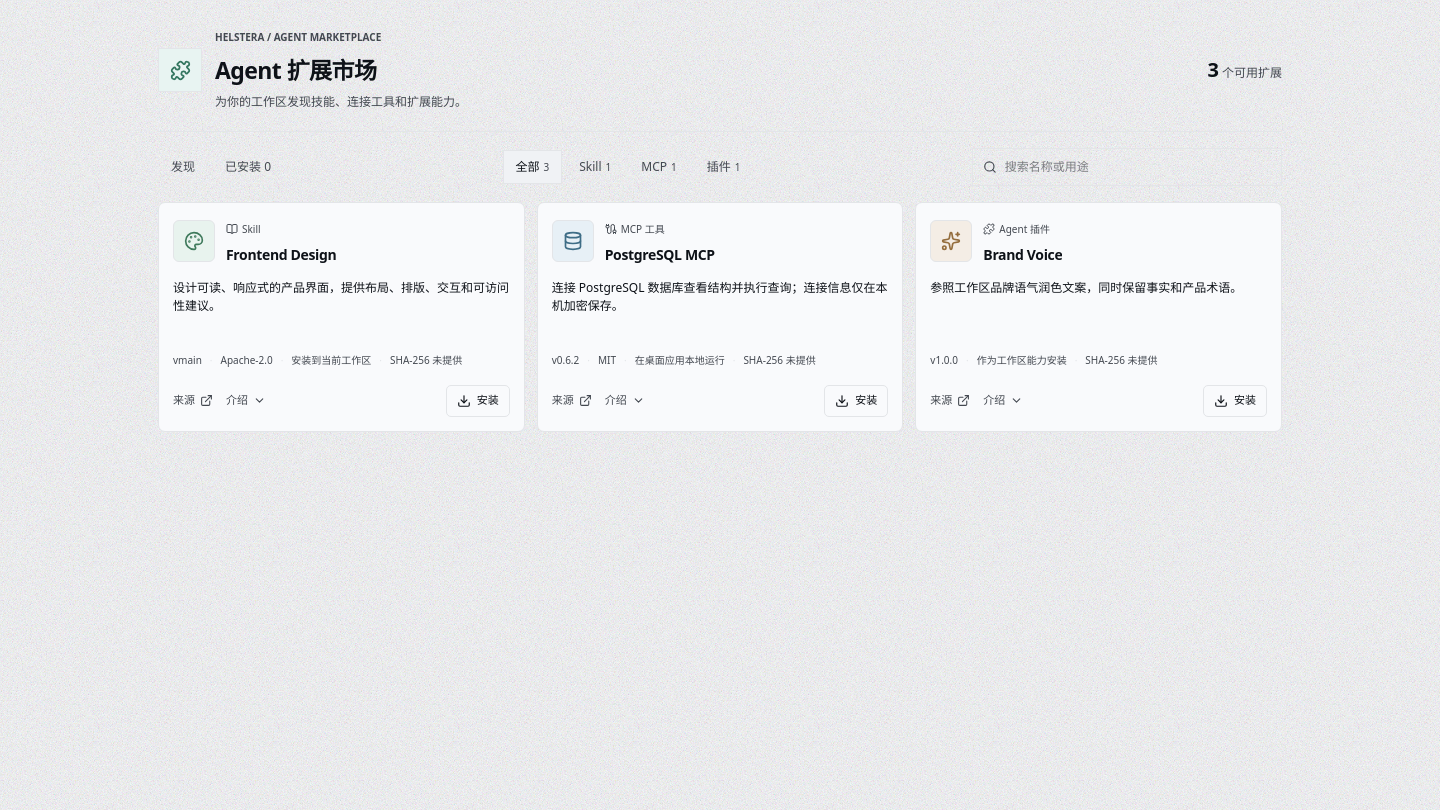
Agent marketplace installs › shows a semantic icon and expandable introduction for each listing
Expected: the text "Agent 插件" is shown, [983,222,1050,234]
Expected: the text "作为工作区能力安装" is shown, [966,353,1067,368]
Step 1. Click the button "介绍" below "1.0.0" → (1003, 400), box [983,386,1023,416]
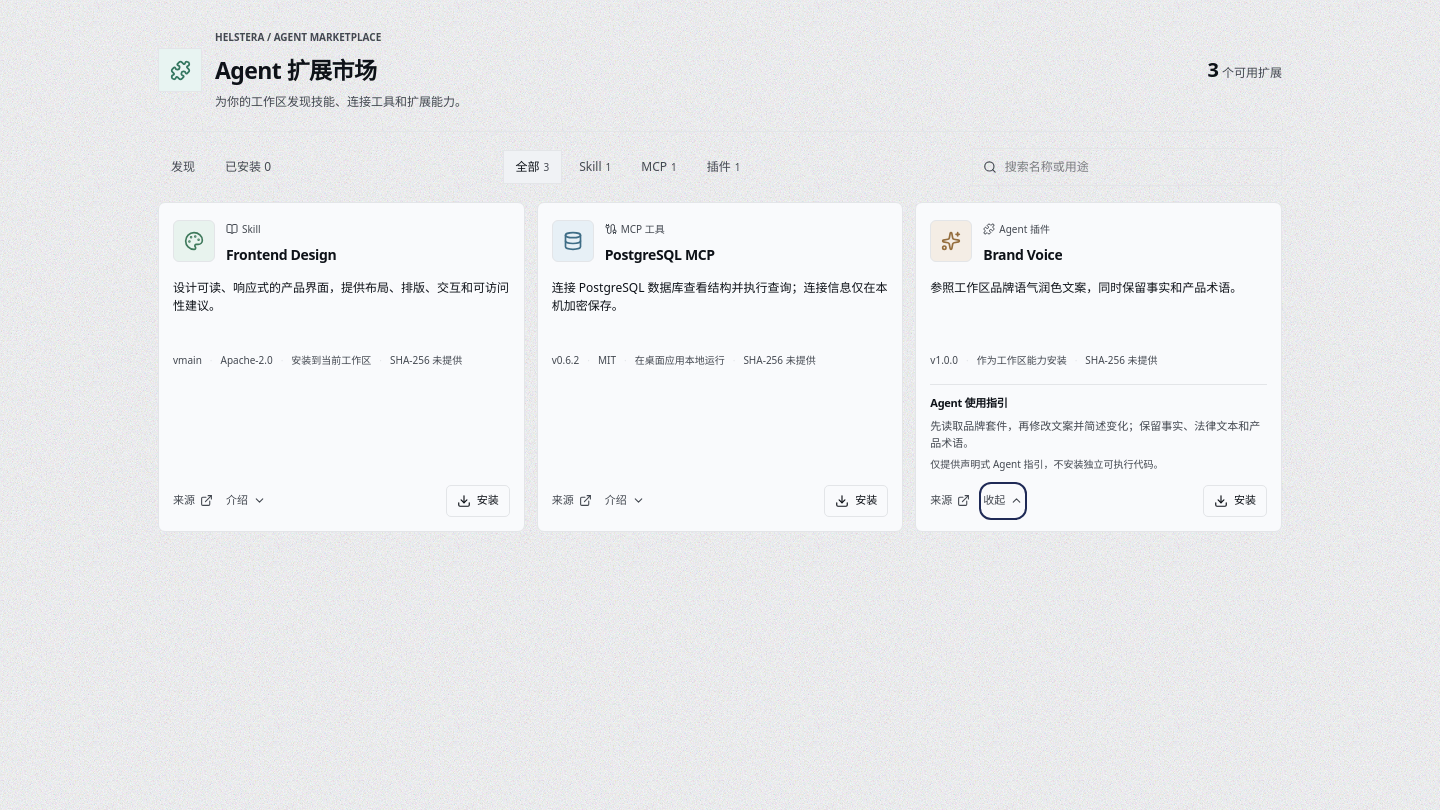
Expected: the number of elements with class "agent-marketplace__card" is 3, [158,202,525,532]; [537,202,903,532]; [915,202,1282,532]
Now the heading "Agent 使用指引" is shown, box [930,394,1008,410]
Now the text "先读取品牌套件，再修改文案并简述变化；保留事实、法律文本和产品术语。" is shown, box [930,417,1267,451]
